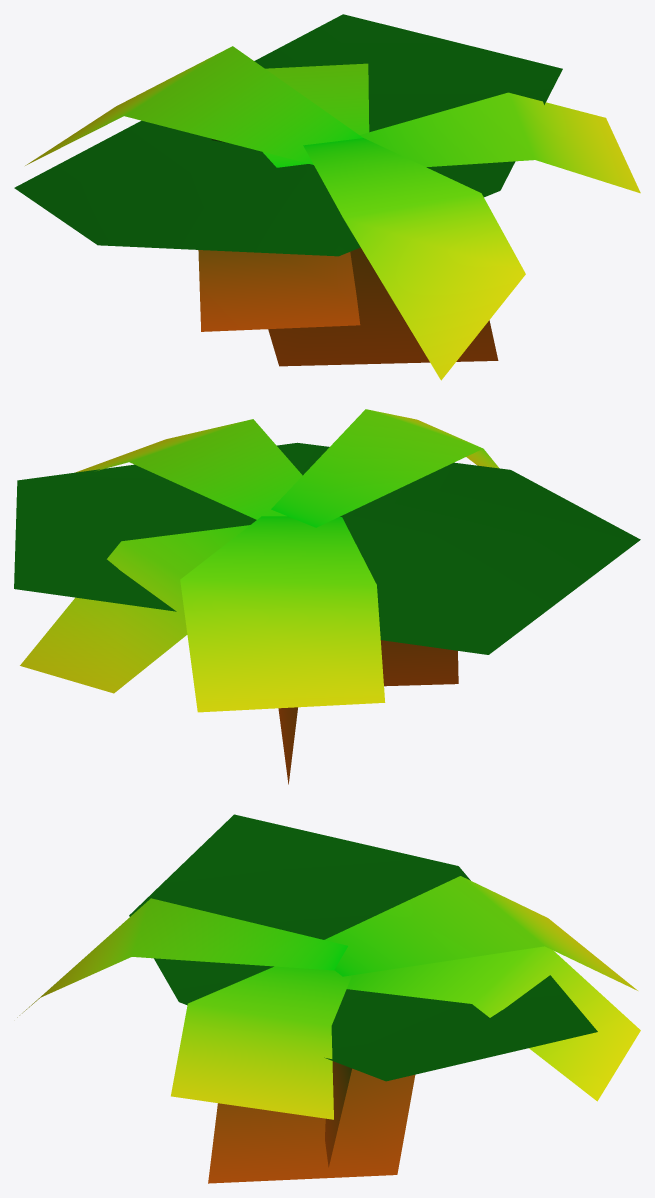
Rendered from Water Cabbage_LOD2_Var7_sjdlV.fbx.
3 renders of one model, top to bottom at view 1: azimuth 30°, elevation 25°; view 2: azimuth 150°, elevation 25°; view 3: azimuth 270°, elevation 25°, orthographic. The views are drawn at different scales.
Visible parts, largest first — view 1: _624e_Var7_LOD2; view 2: _624e_Var7_LOD2; view 3: _624e_Var7_LOD2.
Part boxes in pixels (box(x1,y1,x2,y2)): _624e_Var7_LOD2: box(14, 14, 640, 380); _624e_Var7_LOD2: box(14, 409, 640, 784); _624e_Var7_LOD2: box(17, 814, 640, 1183).
Size of the model in its own units: 13.22 by 5.86 by 13.48.
